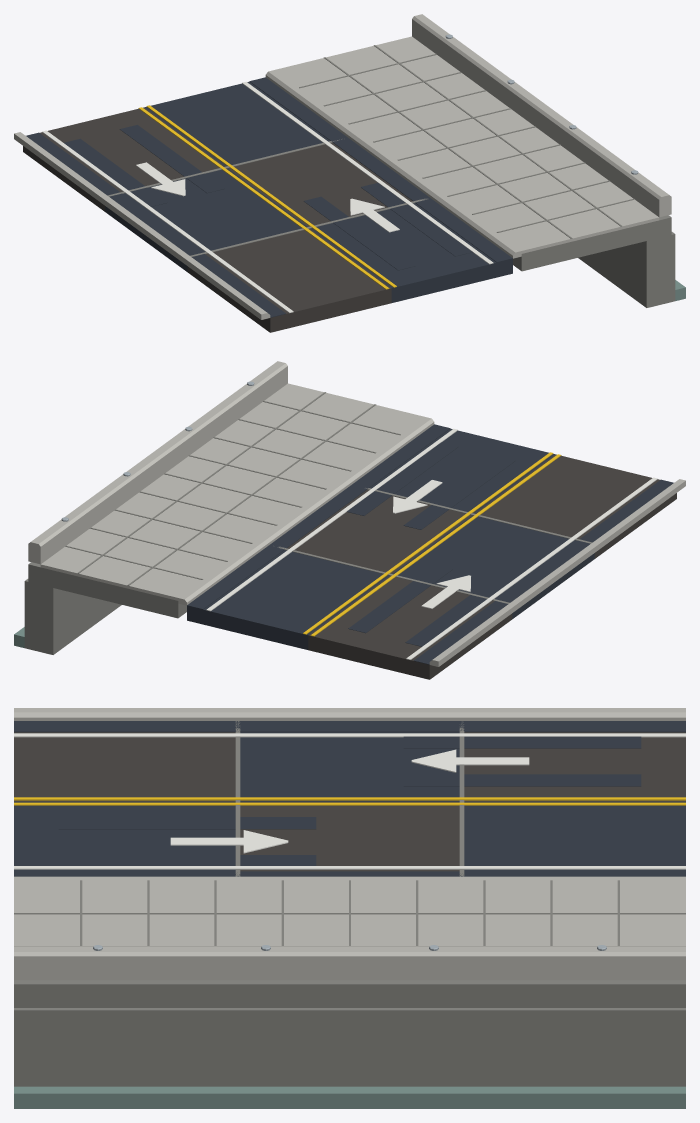
The model's file is ROAD_09.obj.
The picture shows the model from 3 angles, top to bottom: view 1: azimuth 30°, elevation 25°; view 2: azimuth 150°, elevation 25°; view 3: azimuth 270°, elevation 25°; orthographic projection. The views are drawn at different scales.
Parts seen in each view (by area): view 1: ROAD_09__surface, ROAD_09__promenade, ROAD_09__markings, ROAD_09__parapet, ROAD_09__curb, ROAD_09__wear, ROAD_09__seawall_lip, ROAD_09__promenade_seams, ROAD_09__seams; view 2: ROAD_09__surface, ROAD_09__promenade, ROAD_09__markings, ROAD_09__parapet, ROAD_09__curb, ROAD_09__wear, ROAD_09__seawall_lip, ROAD_09__promenade_seams, ROAD_09__seams; view 3: ROAD_09__surface, ROAD_09__seawall_lip, ROAD_09__promenade, ROAD_09__markings, ROAD_09__parapet, ROAD_09__wear, ROAD_09__curb, ROAD_09__promenade_seams, ROAD_09__seams.
Boxes of the visible parts, left/top/right/bottom form: ROAD_09__surface: left=23, top=81, right=512, bottom=332; ROAD_09__promenade: left=275, top=36, right=671, bottom=271; ROAD_09__markings: left=26, top=77, right=512, bottom=317; ROAD_09__parapet: left=412, top=14, right=671, bottom=217; ROAD_09__curb: left=14, top=70, right=521, bottom=319; ROAD_09__wear: left=64, top=125, right=472, bottom=270; ROAD_09__seawall_lip: left=578, top=232, right=685, bottom=307; ROAD_09__promenade_seams: left=299, top=45, right=634, bottom=238; ROAD_09__seams: left=107, top=139, right=427, bottom=256; ROAD_09__surface: left=187, top=428, right=676, bottom=679; ROAD_09__promenade: left=28, top=383, right=424, bottom=618; ROAD_09__markings: left=187, top=424, right=673, bottom=664; ROAD_09__parapet: left=28, top=361, right=287, bottom=564; ROAD_09__curb: left=178, top=417, right=685, bottom=666; ROAD_09__wear: left=347, top=442, right=515, bottom=646; ROAD_09__seawall_lip: left=14, top=579, right=121, bottom=654; ROAD_09__promenade_seams: left=65, top=392, right=400, bottom=585; ROAD_09__seams: left=277, top=488, right=592, bottom=603; ROAD_09__surface: left=14, top=732, right=685, bottom=871; ROAD_09__seawall_lip: left=14, top=1008, right=685, bottom=1108; ROAD_09__promenade: left=14, top=880, right=685, bottom=1007; ROAD_09__markings: left=14, top=721, right=685, bottom=876; ROAD_09__parapet: left=14, top=946, right=685, bottom=980; ROAD_09__wear: left=58, top=736, right=641, bottom=865; ROAD_09__curb: left=14, top=708, right=685, bottom=880; ROAD_09__promenade_seams: left=14, top=880, right=685, bottom=946; ROAD_09__seams: left=235, top=721, right=464, bottom=876.
Bounding box in the file's own units: 11.9 × 2.93 × 12.
